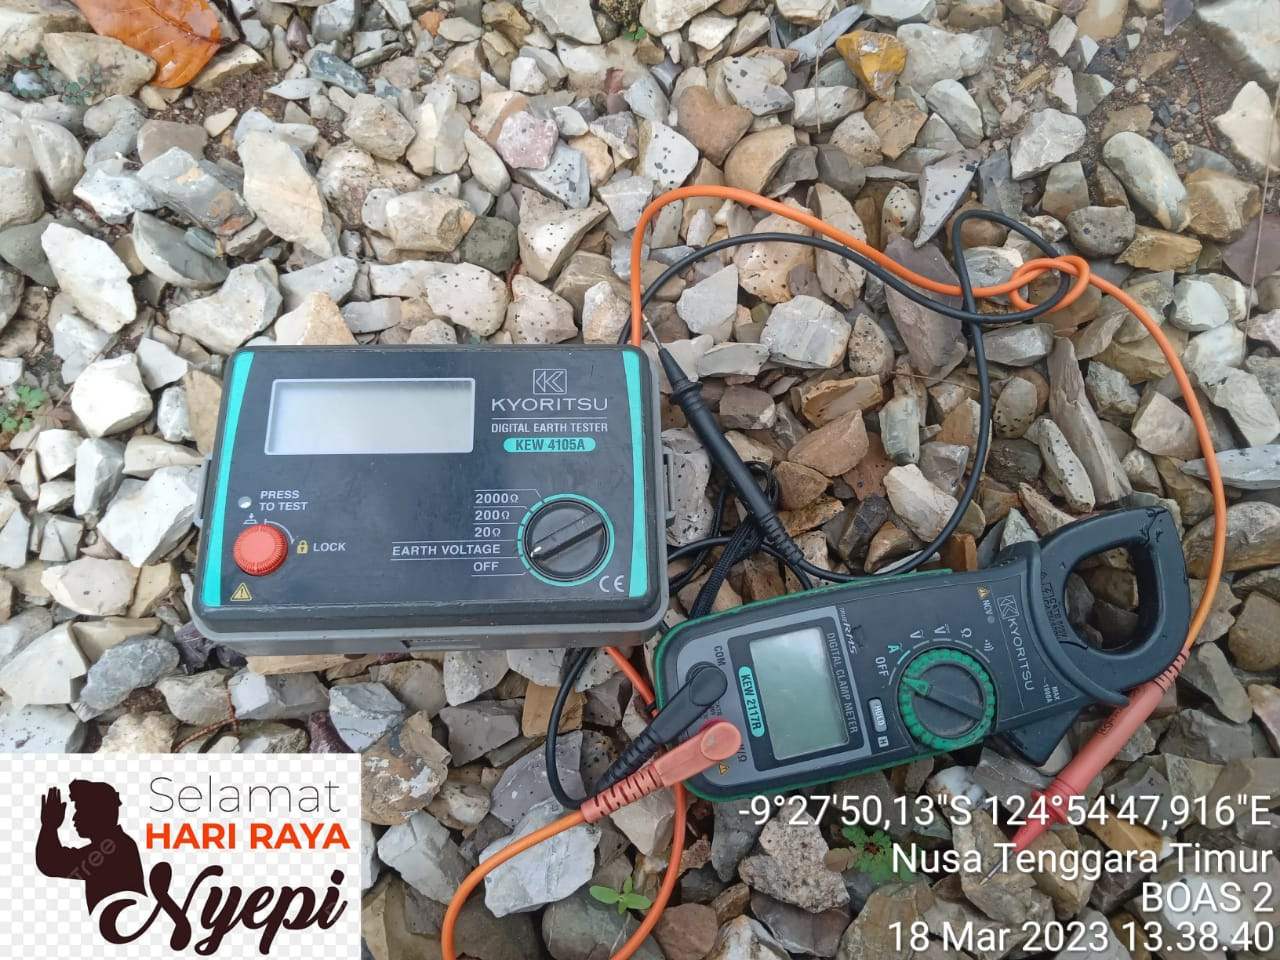EARTH_GROUNDING_TESTER: (190, 343, 667, 644)
TANG_AMPERE: (665, 506, 1186, 797)
